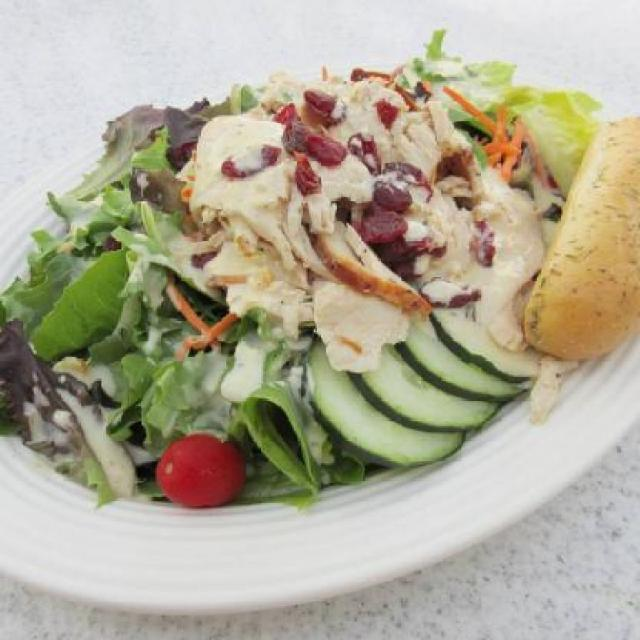Zucchini: (276, 253, 526, 482)
